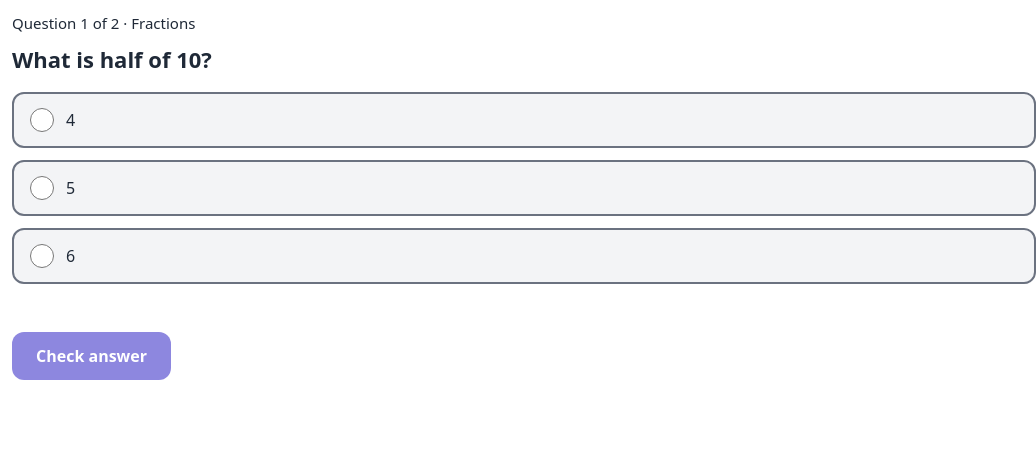
Test: Quiz › moves focus to the next question heading
The image size is (1036, 470).
What coordinates should you click on to do the following:
click the radio button labelled "5"
I would click on:
 (42, 188)
Its box is [30,176,54,200].
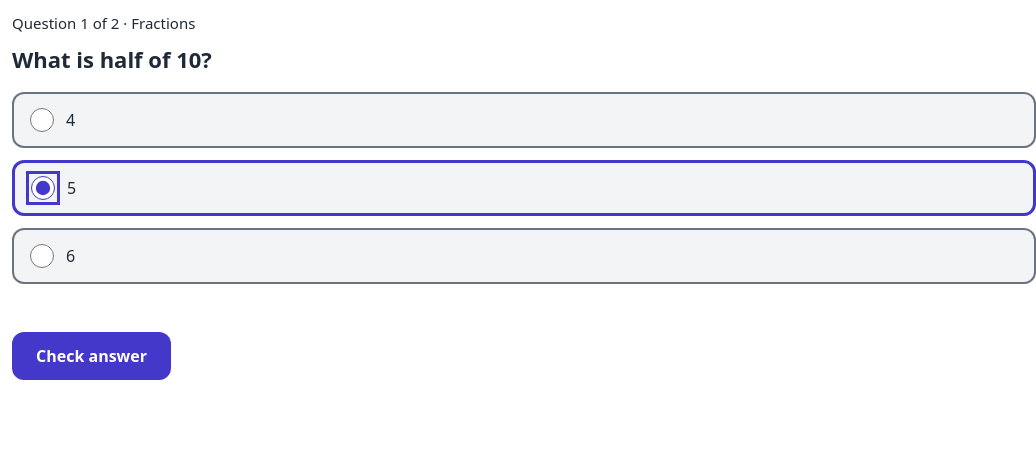
What coordinates should you click on to do the following:
click the button "Check answer"
I would click on:
 (92, 356)
Its box is [12,332,171,380].
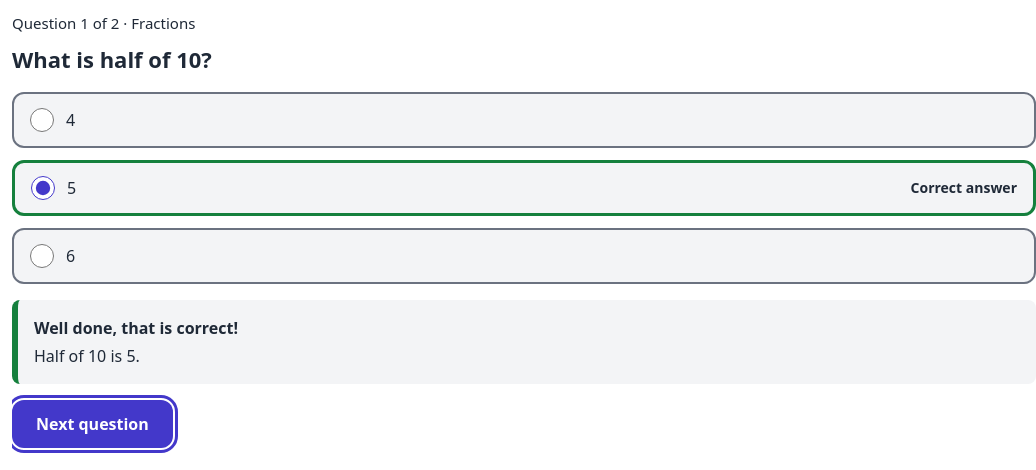
What coordinates should you click on to do the following:
click the button "Next question"
I would click on:
 (92, 424)
Its box is [12,400,173,448].
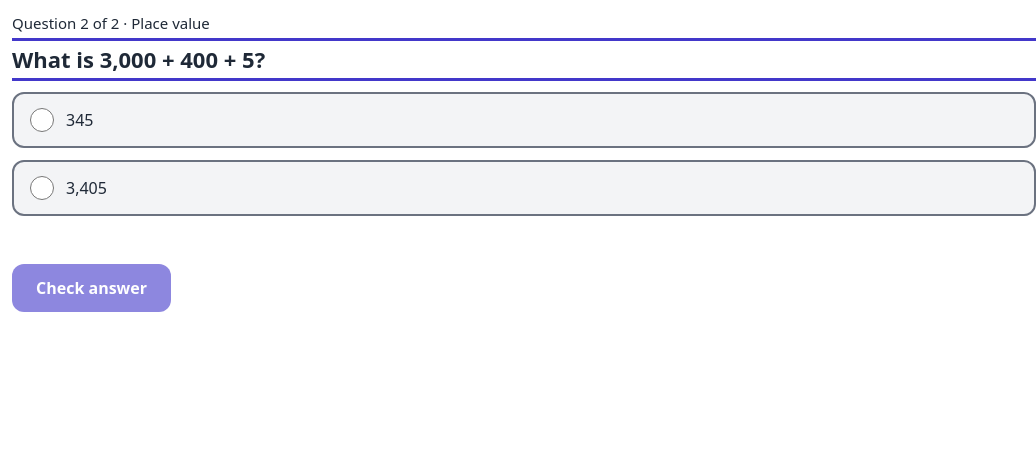
Now the text "Question 2 of 2 · Place value" is shown, box [12,13,210,33]
